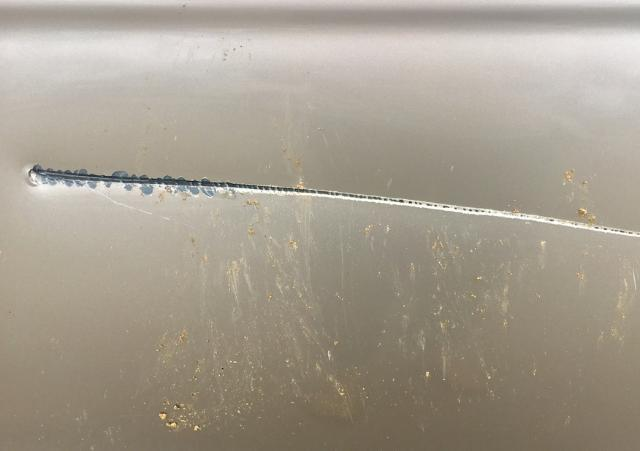Door: (6, 149, 640, 357)
